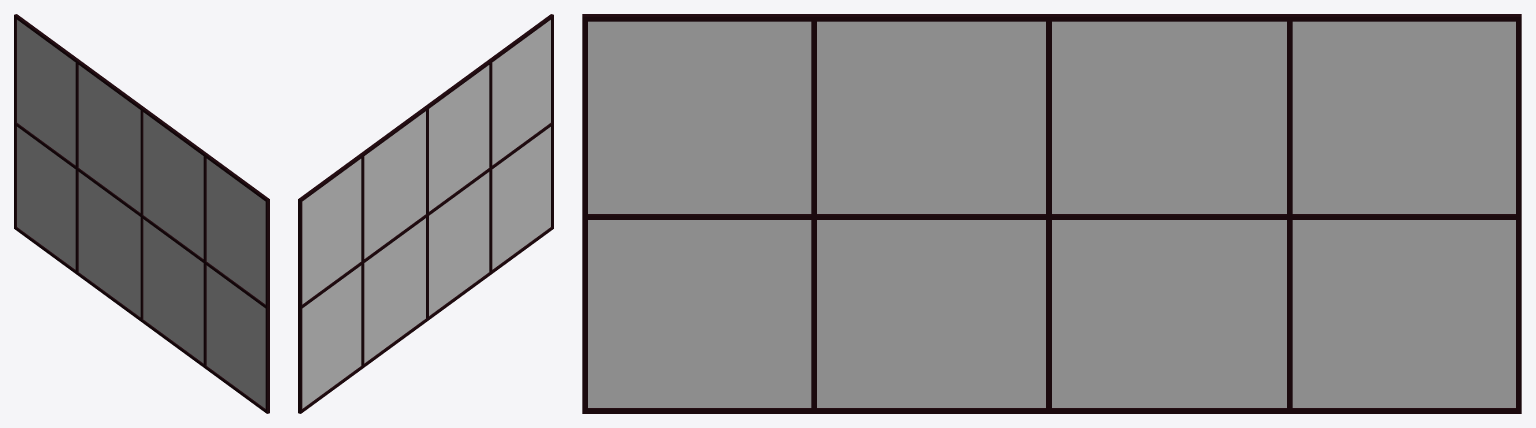
File: window.fbx
The picture shows the model from 3 angles, left to right: view 1: azimuth 30°, elevation 25°; view 2: azimuth 150°, elevation 25°; view 3: azimuth 270°, elevation 25°; orthographic projection. The views are drawn at different scales.
Parts seen in each view (by area): view 1: Cube.001, Cube; view 2: Cube.001, Cube; view 3: Cube.001, Cube.
Part boxes in pixels (<box>): Cube.001: <box>17,20,265,408</box>; Cube: <box>14,14,269,413</box>; Cube.001: <box>302,20,550,408</box>; Cube: <box>298,14,553,413</box>; Cube.001: <box>588,21,1515,407</box>; Cube: <box>582,14,1521,413</box>.
Size of the model in its own units: 20 by 1400 by 3000.
